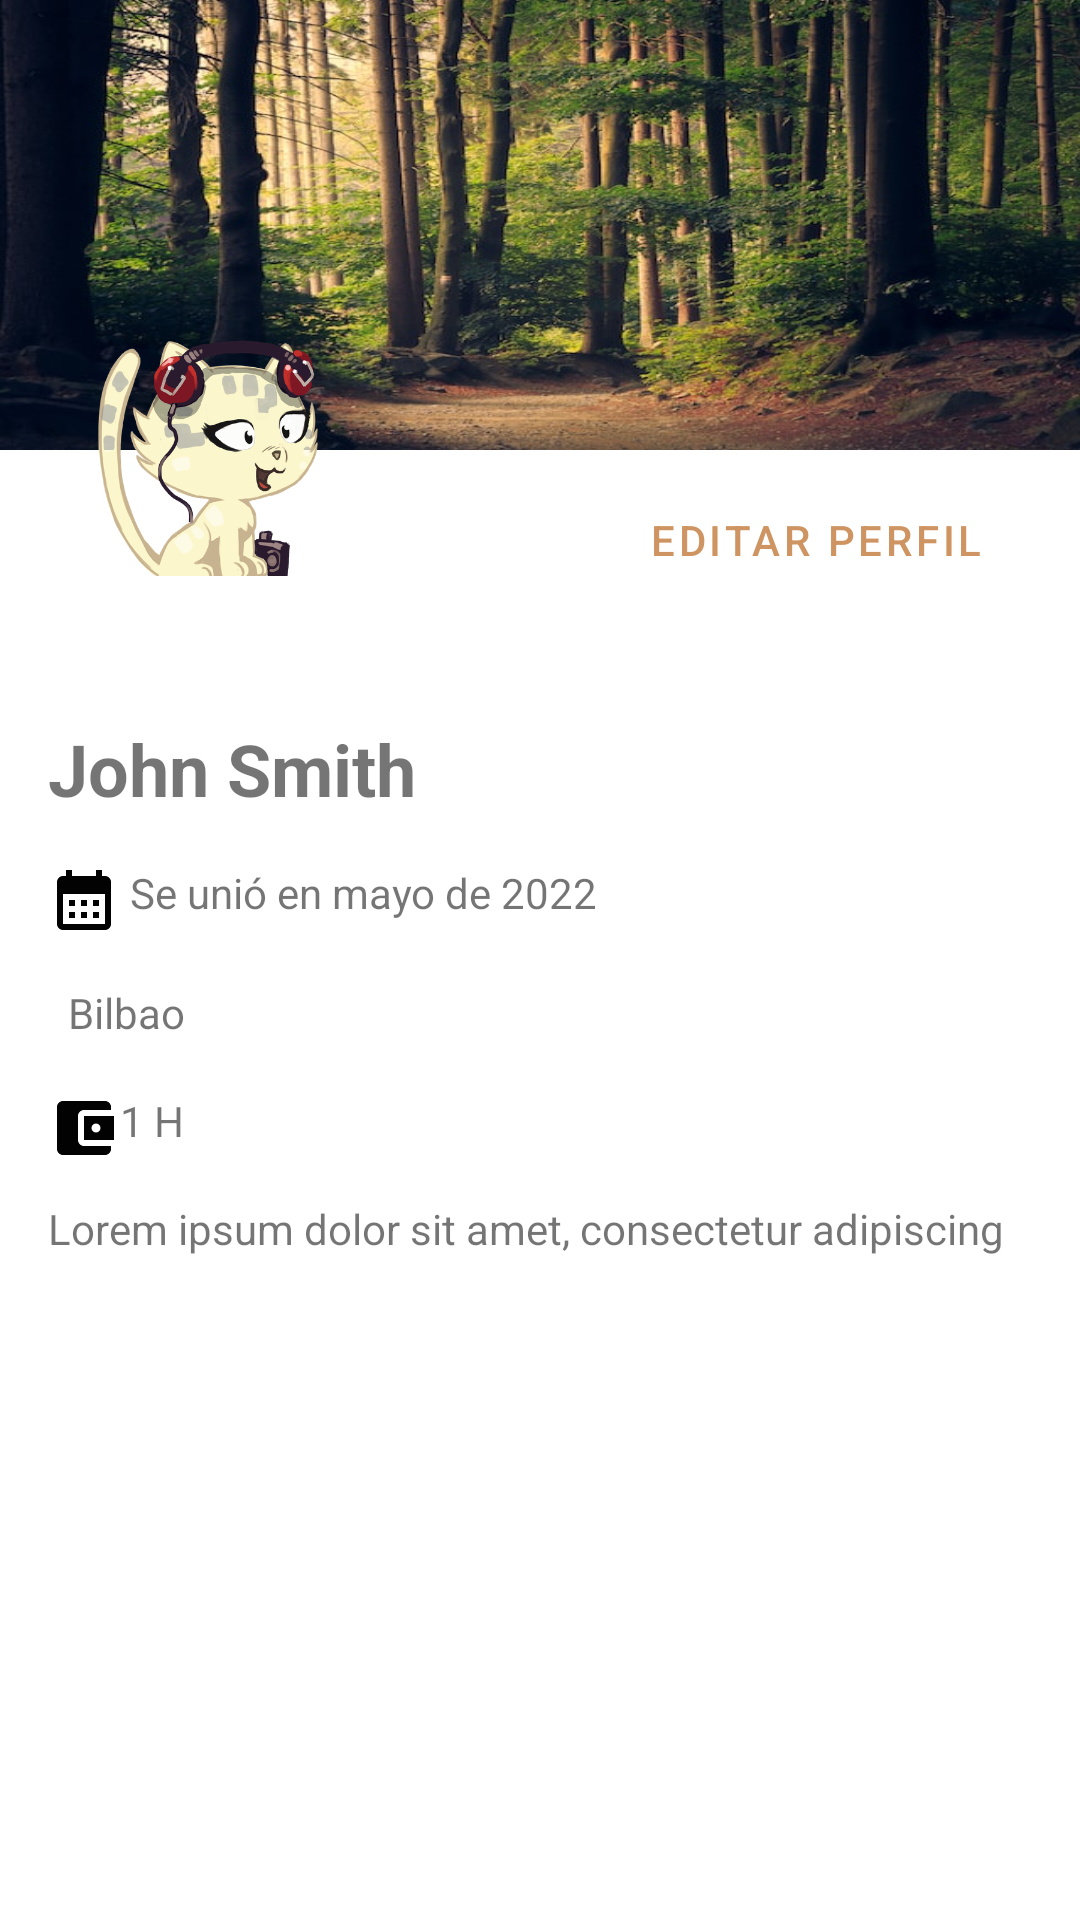

Where to tap for icons on this 1080×1920 app screen, as point (x, y):
perfil: point (206, 456)
